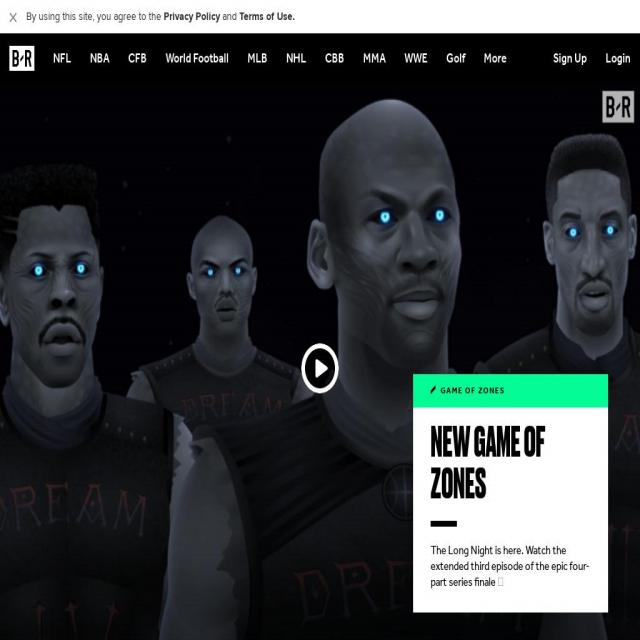login-option: (598, 44, 636, 78)
navigation-links: (48, 43, 524, 85)
sign-up-option: (548, 45, 588, 78)
video: (30, 105, 640, 640)
